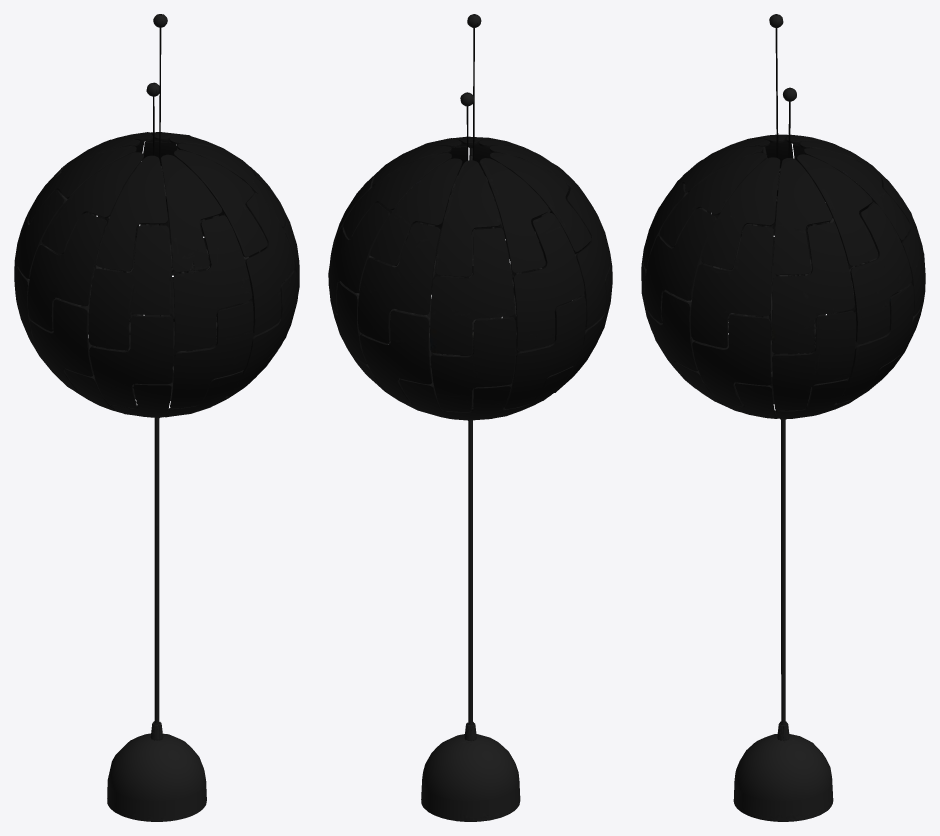
The model's file is pendant_lamp_50531742.glb.
3 views of the same model, side by side, from view 1: azimuth 30°, elevation 25°; view 2: azimuth 150°, elevation 25°; view 3: azimuth 270°, elevation 25° (orthographic).
Parts seen in each view (by area): view 1: 50531742-IKEA PS 001; view 2: 50531742-IKEA PS 001; view 3: 50531742-IKEA PS 001.
Part boxes in pixels (x1,y1,x2,y2): 50531742-IKEA PS 001: [14, 14, 299, 821]; 50531742-IKEA PS 001: [328, 14, 612, 821]; 50531742-IKEA PS 001: [641, 14, 925, 821].
Size of the model in its own units: 0.3497 by 1.07 by 0.3496.
Materials: 1 (1 with a texture image).
